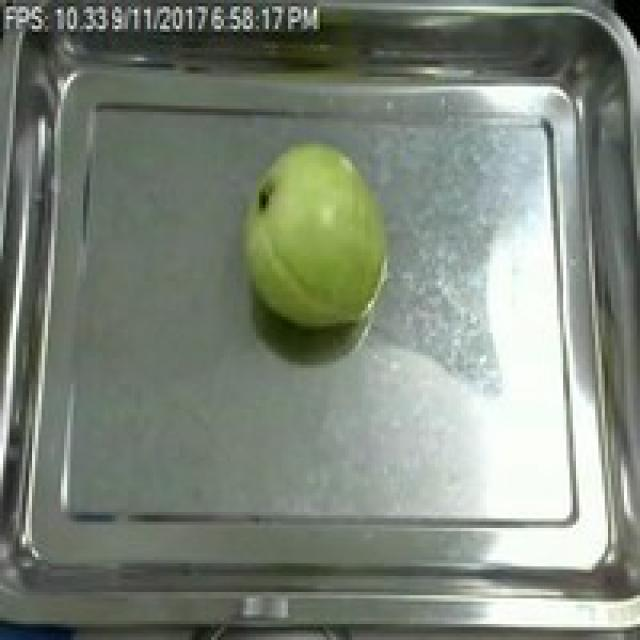Fruit: (230, 131, 400, 339)
